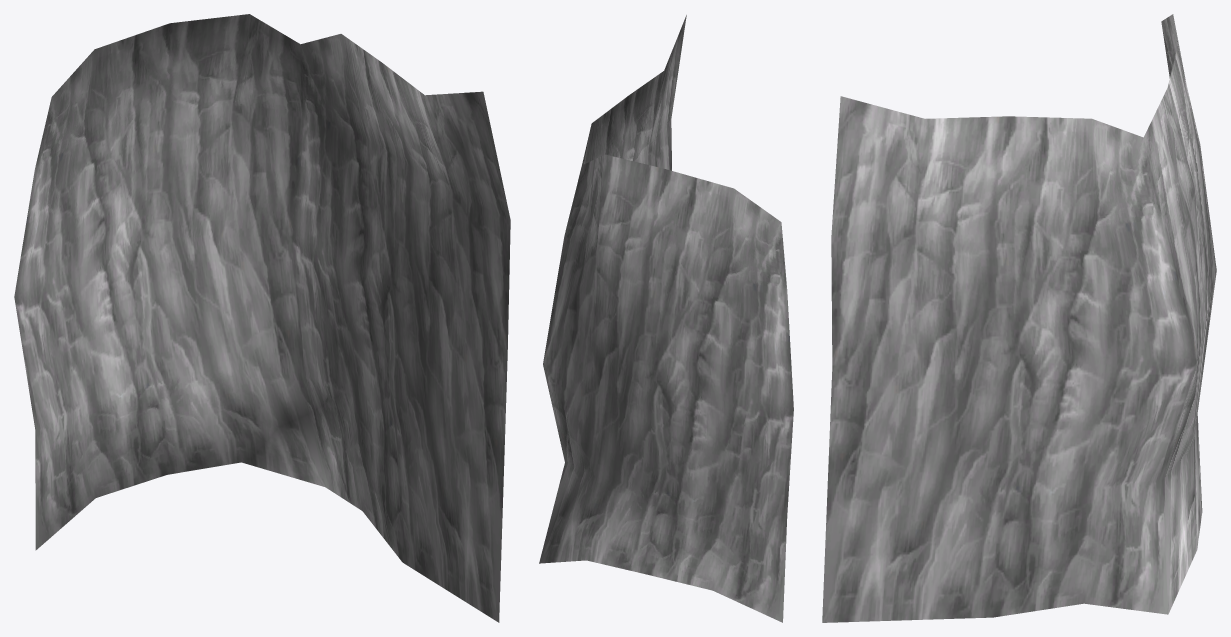
File: SWORDLIGHT20_PS-AREA03_174.fbx
3 renders of one model, left to right at view 1: azimuth 30°, elevation 25°; view 2: azimuth 150°, elevation 25°; view 3: azimuth 270°, elevation 25°, orthographic. The views are drawn at different scales.
Visible parts, largest first — view 1: SWORDLIGHT20_PS-AREA03_174; view 2: SWORDLIGHT20_PS-AREA03_174; view 3: SWORDLIGHT20_PS-AREA03_174.
Part boxes in pixels (x1,y1,x2,y2): SWORDLIGHT20_PS-AREA03_174: [14, 14, 510, 622]; SWORDLIGHT20_PS-AREA03_174: [539, 15, 793, 622]; SWORDLIGHT20_PS-AREA03_174: [822, 14, 1216, 622].
Size of the model in its own units: 63701 by 100332 by 68503.
Materials: 1 (1 with a texture image).
